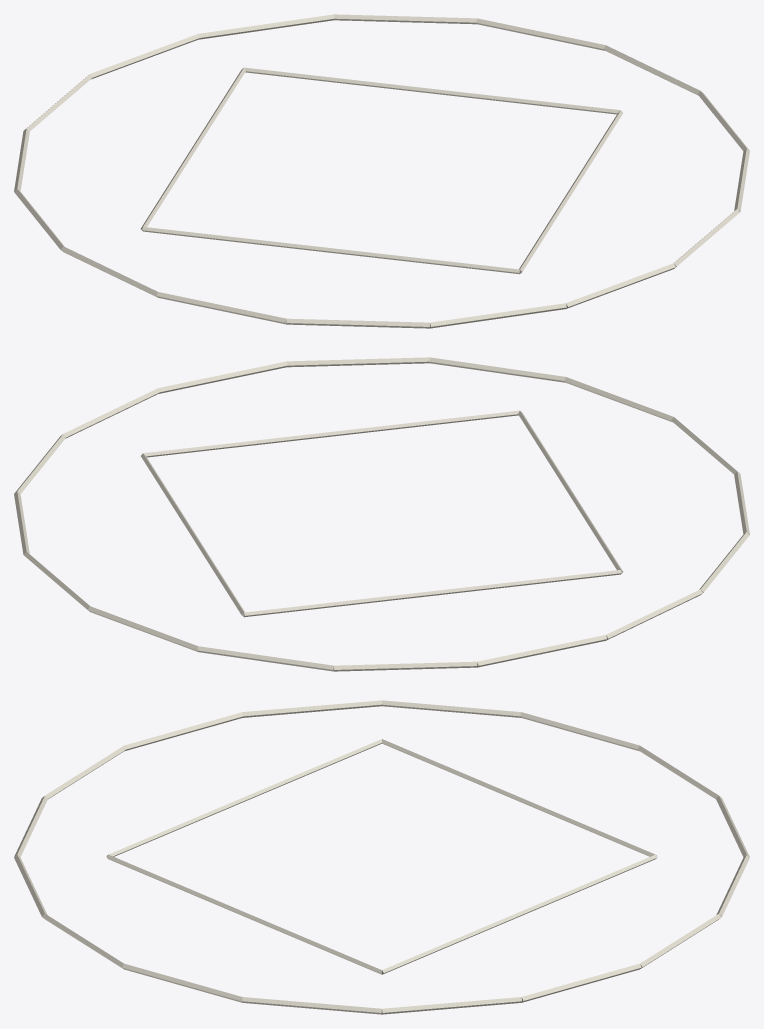
Rendered from blender_chalk_sigil_kit_2_deployed.glb.
The picture shows the model from 3 angles, top to bottom: view 1: azimuth 30°, elevation 25°; view 2: azimuth 150°, elevation 25°; view 3: azimuth 270°, elevation 25°; orthographic projection.
Visible parts, largest first — view 1: blender_chalk_sigil_kit_2_deployed; view 2: blender_chalk_sigil_kit_2_deployed; view 3: blender_chalk_sigil_kit_2_deployed.
Part boxes in pixels (left/top/right/bottom): blender_chalk_sigil_kit_2_deployed: left=14, top=14, right=749, bottom=328; blender_chalk_sigil_kit_2_deployed: left=14, top=357, right=749, bottom=671; blender_chalk_sigil_kit_2_deployed: left=14, top=700, right=749, bottom=1014.
Bounding box in the file's own units: 0.5649 × 0.005 × 0.5649.
1 material, 1 textured.
